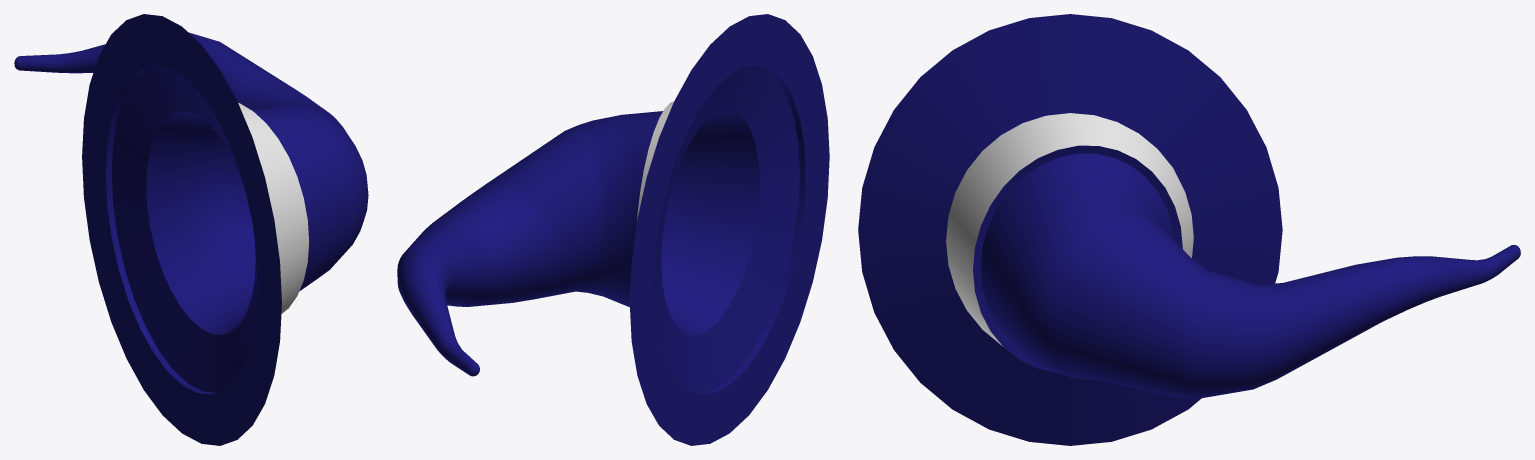
File: WitchyHat2.fbx
3 renders of one model, left to right at view 1: azimuth 30°, elevation 25°; view 2: azimuth 150°, elevation 25°; view 3: azimuth 270°, elevation 25°, orthographic. The views are drawn at different scales.
Parts seen in each view (by area): view 1: Circle; view 2: Circle; view 3: Circle.
Boxes of the visible parts, x1=… form: Circle: x1=14, y1=14, x2=368, y2=445; Circle: x1=397, y1=14, x2=829, y2=445; Circle: x1=858, y1=14, x2=1520, y2=445.
Bounding box in the file's own units: 0.1891 × 0.329 × 0.4574.
